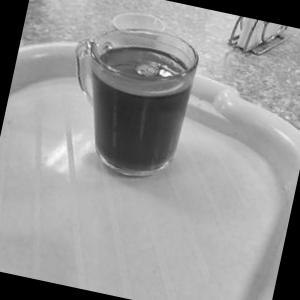coffee: (54, 10, 220, 186)
